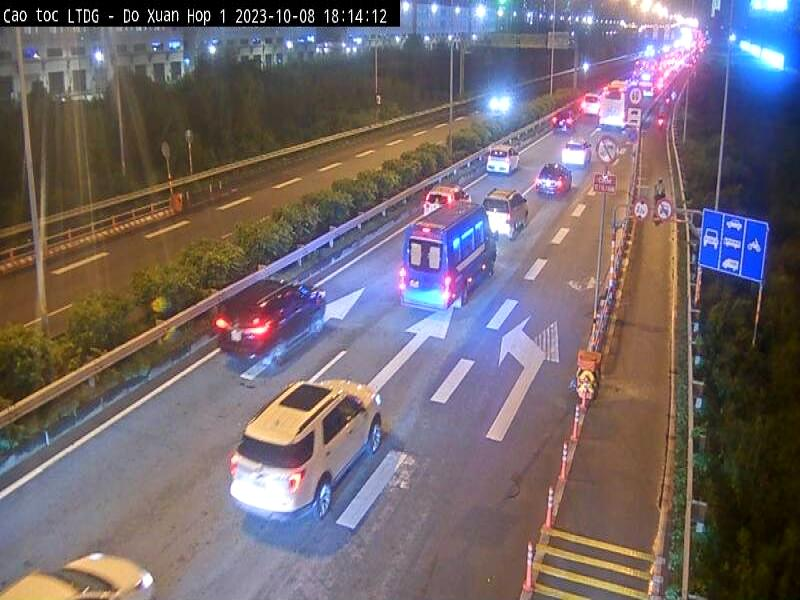car: (228, 379, 387, 542), (390, 197, 498, 319), (214, 276, 328, 365), (484, 178, 528, 243), (539, 158, 566, 208), (421, 176, 460, 209), (488, 143, 519, 184), (567, 135, 588, 167)
